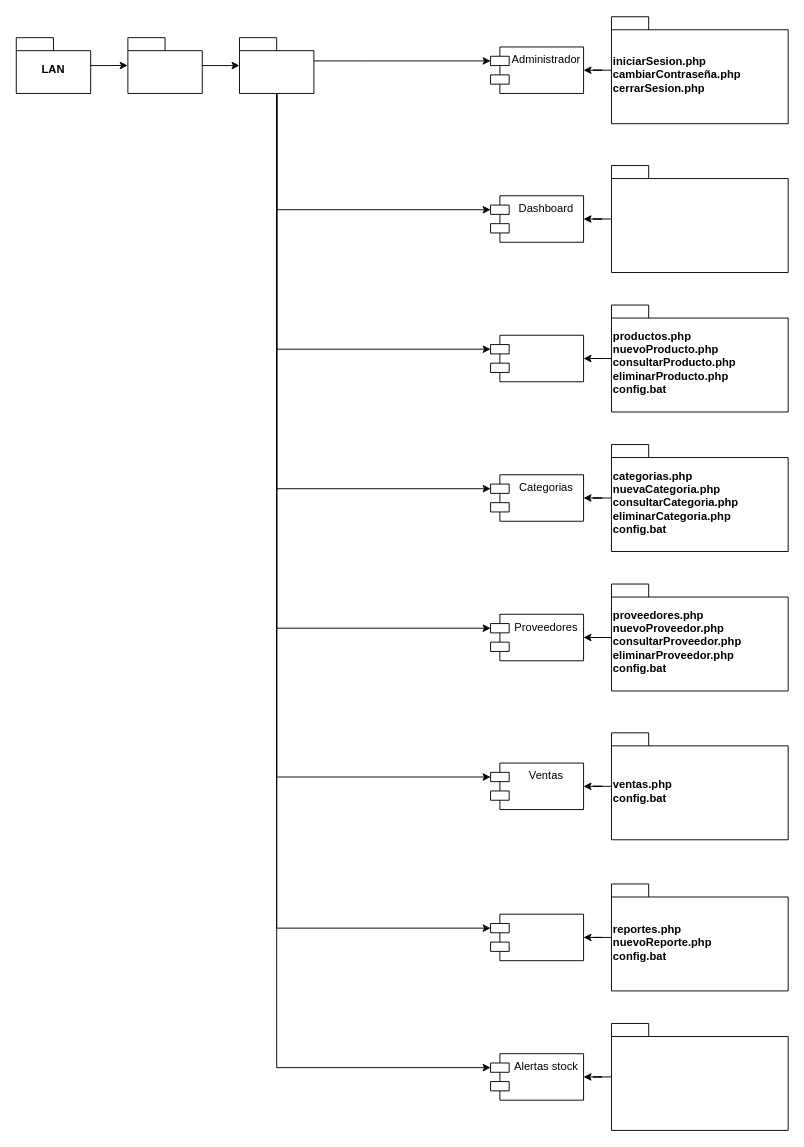
Image size: 804x1147. Some labels were removed from this diagram. The shapes that lost their labels are listed below. From the top down, each one's centre as x and y in pixels, then its label:
(164,65): 9ELEVEN
(276,65): index.html
(699,218): dashboard.php config.bat
(537,358): Productos
(537,937): Reportes
(699,1076): alertastock.php config.bat
